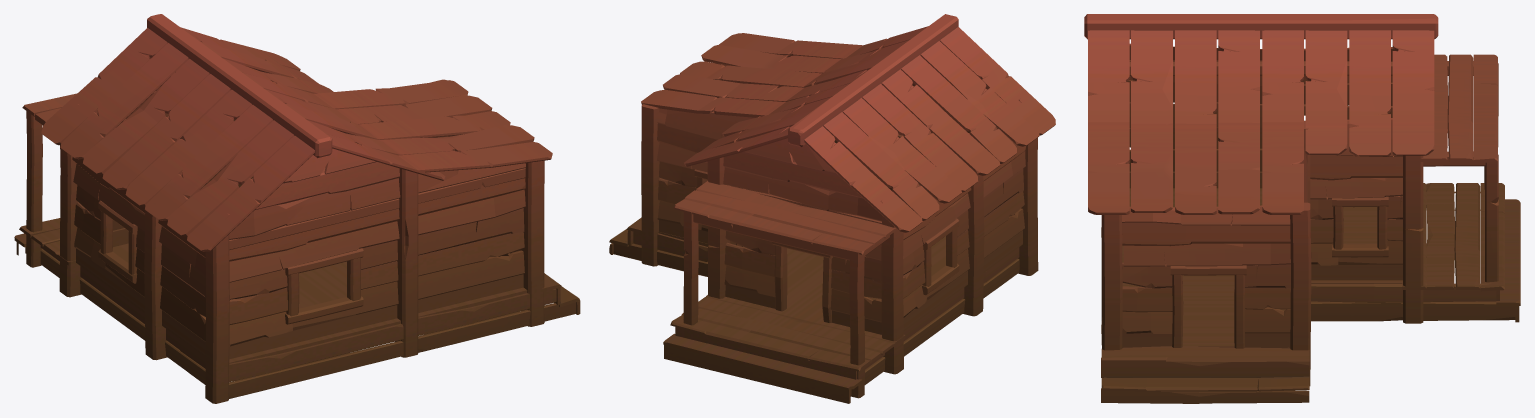
3 renders of one model, left to right at view 1: azimuth 30°, elevation 25°; view 2: azimuth 150°, elevation 25°; view 3: azimuth 270°, elevation 25°, orthographic. The views are drawn at different scales.
Visible parts, largest first — view 1: WoodenHouse1; view 2: WoodenHouse1; view 3: WoodenHouse1.
Part boxes in pixels (x1=…): WoodenHouse1: x1=14, y1=14, x2=580, y2=403; WoodenHouse1: x1=609, y1=14, x2=1055, y2=403; WoodenHouse1: x1=1084, y1=14, x2=1520, y2=403.
Bounding box in the file's own units: 570 × 350 × 543.
Materials: 1 (1 with a texture image).
